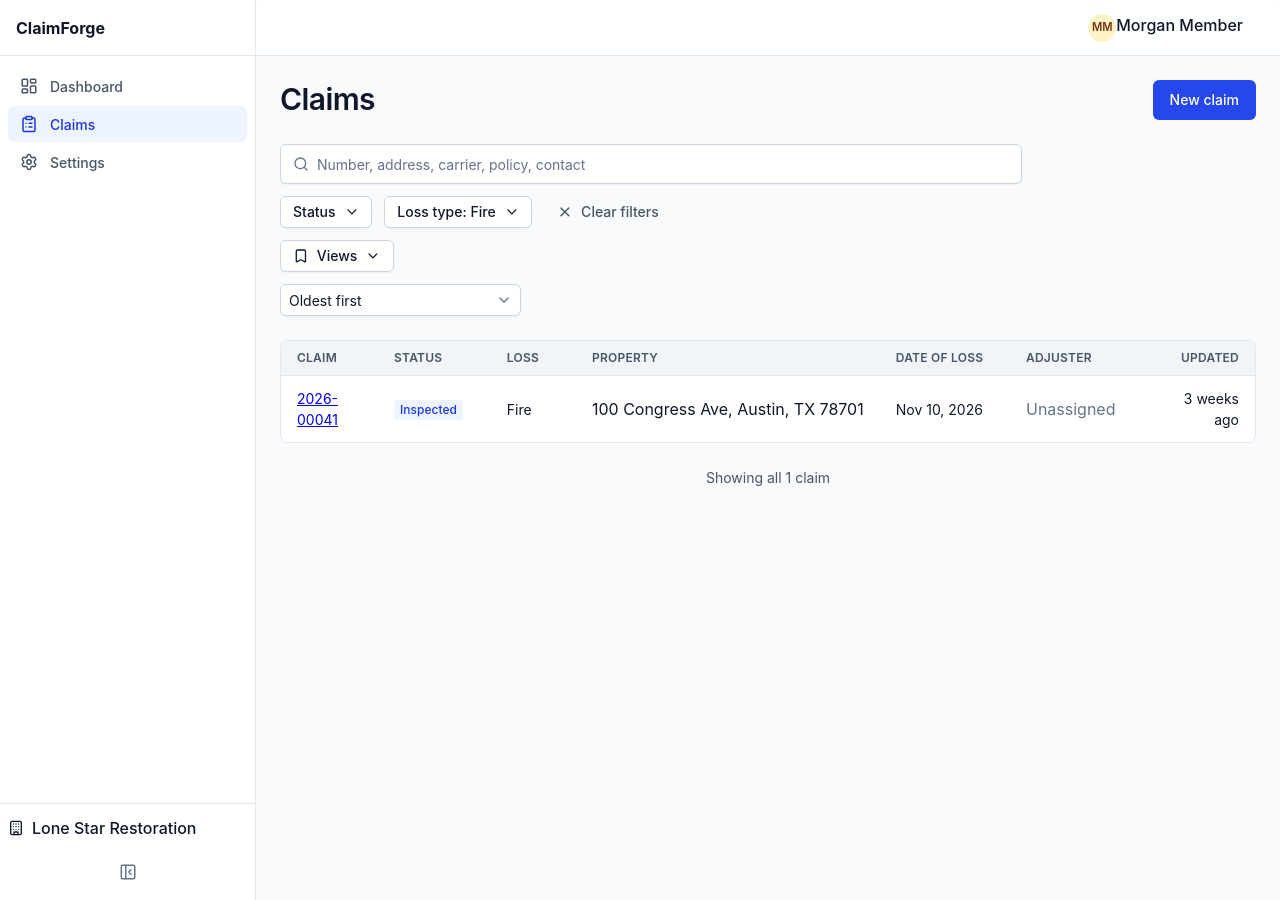
Test: saved views › saving the list as a view names it on the button
Click the button "Views": point(337, 256) [280,240,394,272]
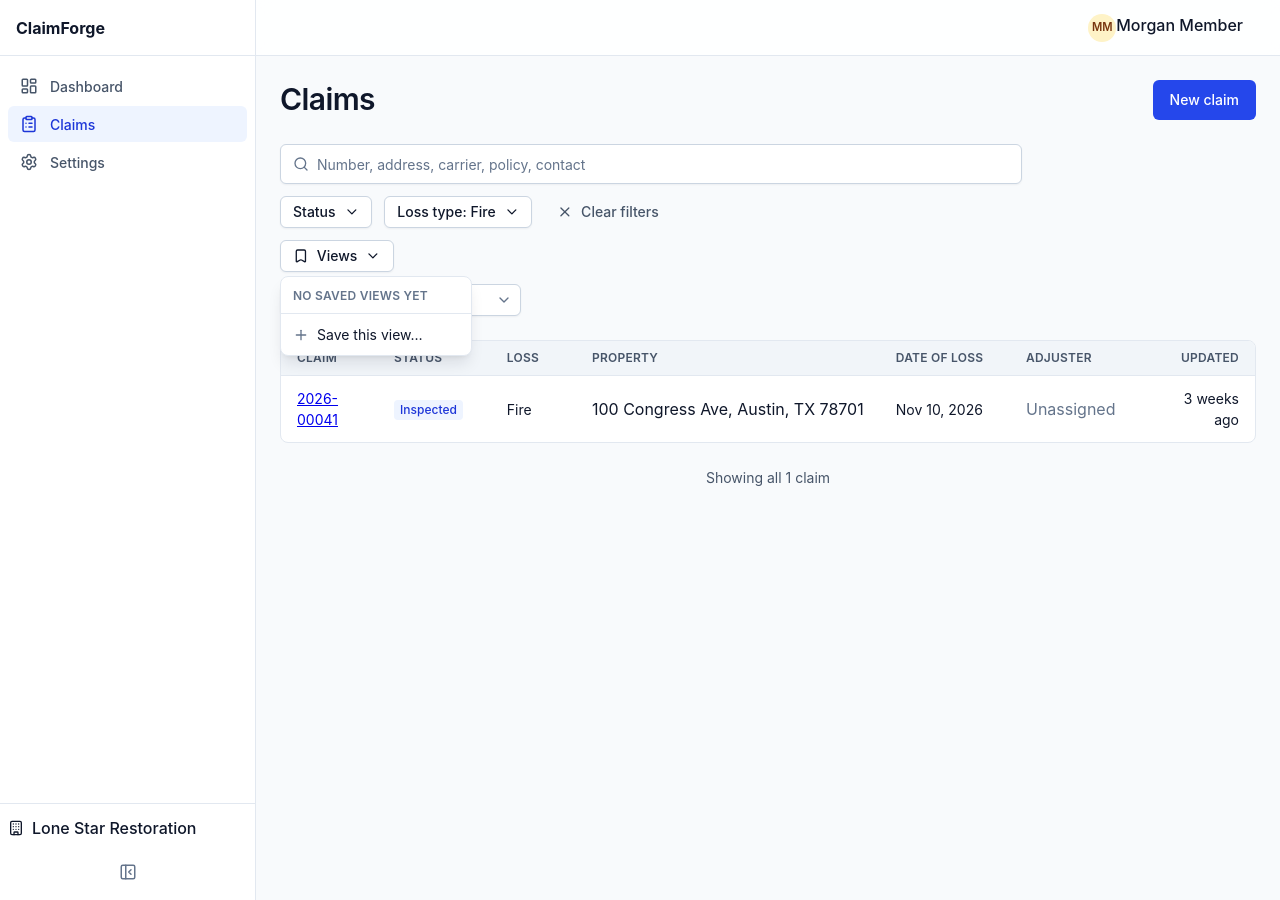
Click the menu item "Save this view…": point(358, 334) [293,326,423,343]
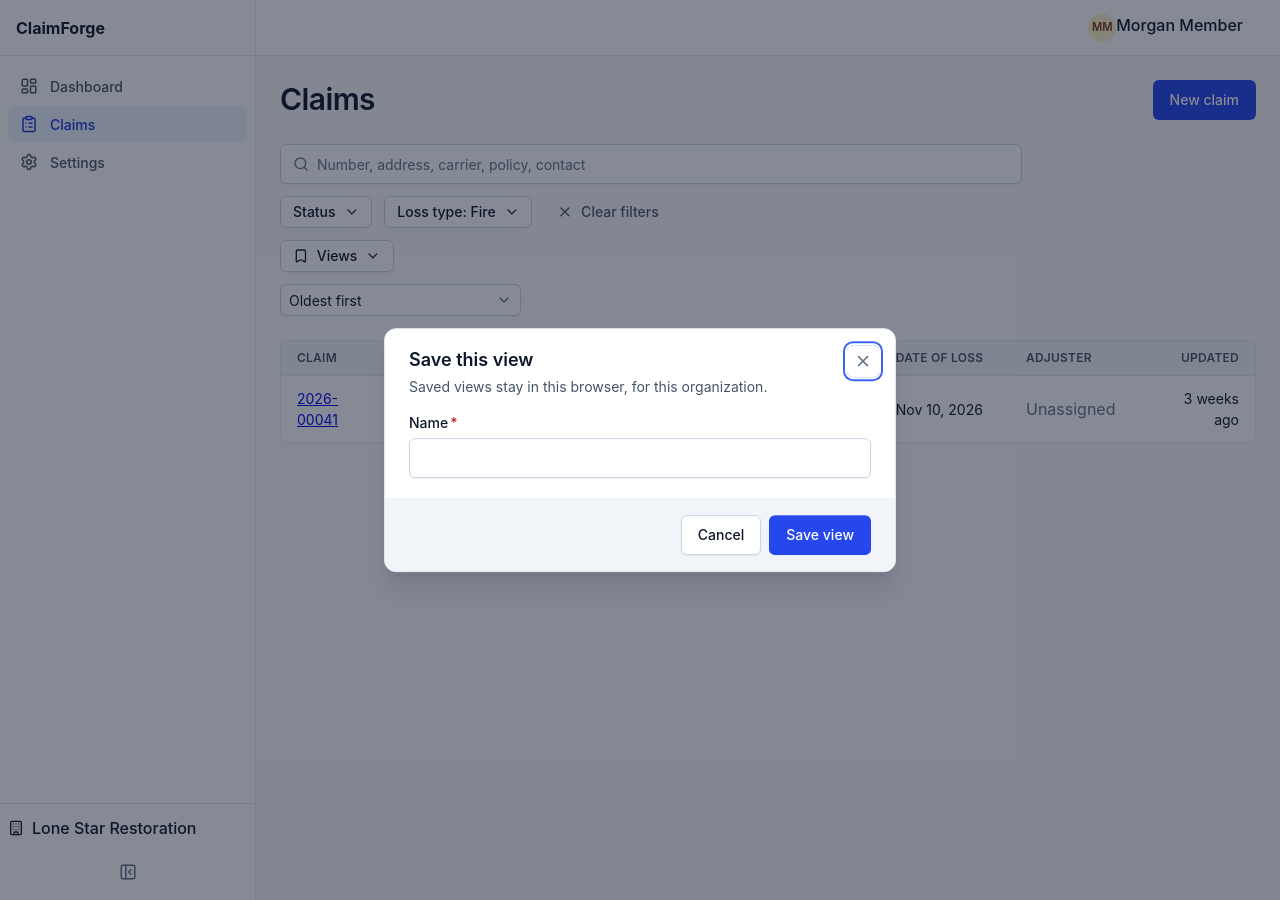
In the field labelled "Name*": point(640, 458) [422,439,858,477], type "Fires, oldest first"
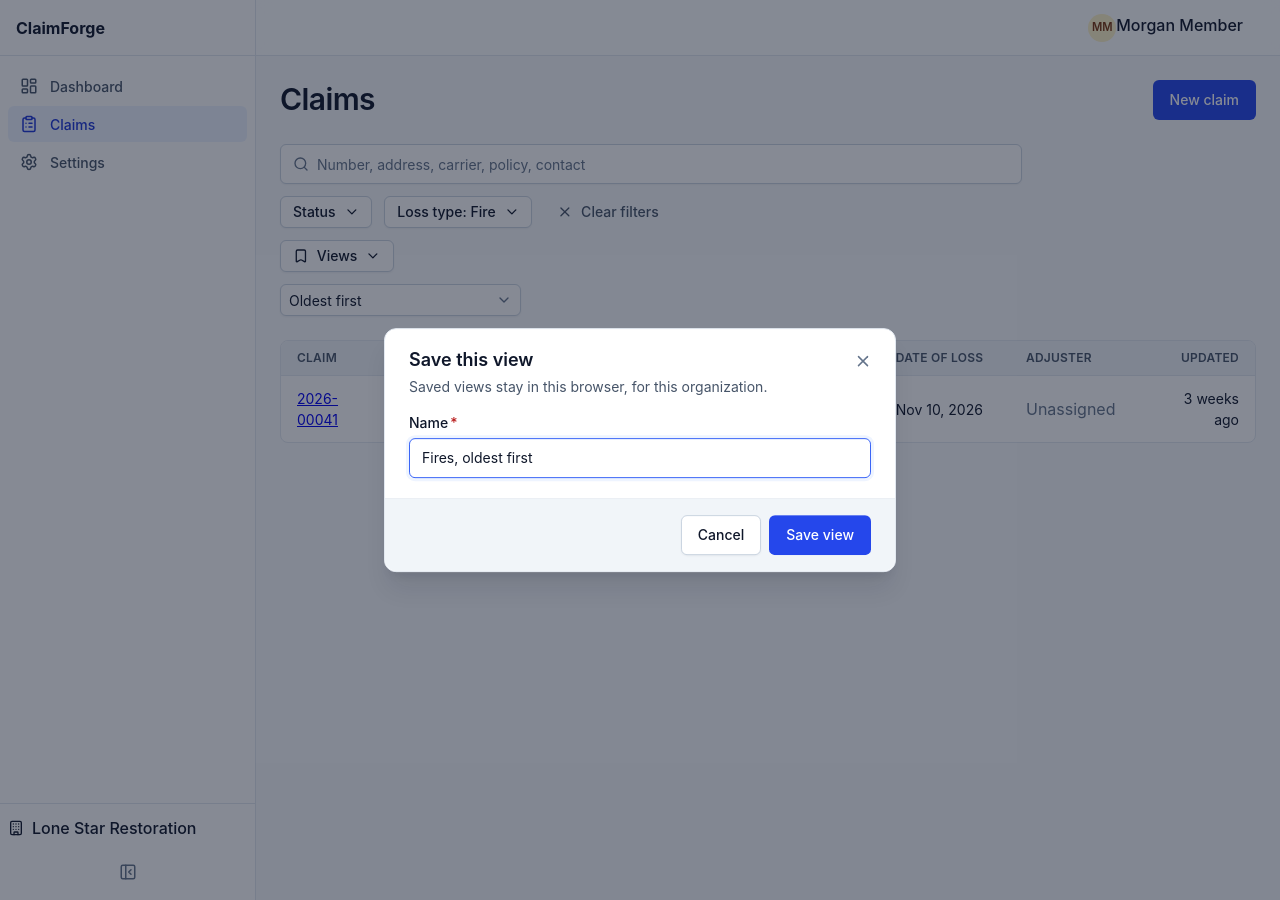
Click the button "Save view": point(820, 535) [769,515,871,555]
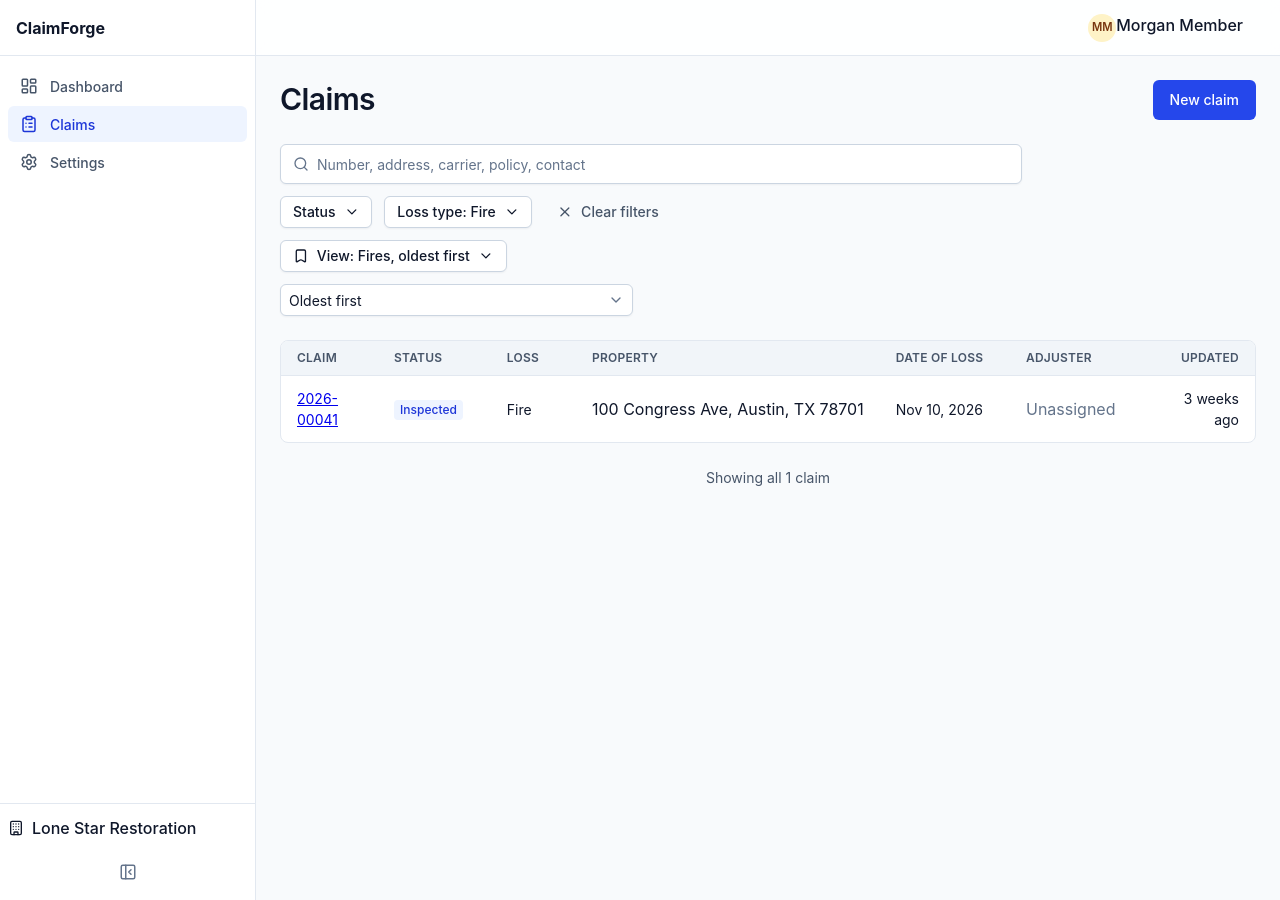
Result: the button "View: Fires, oldest first" is shown at [280,240,507,272]
